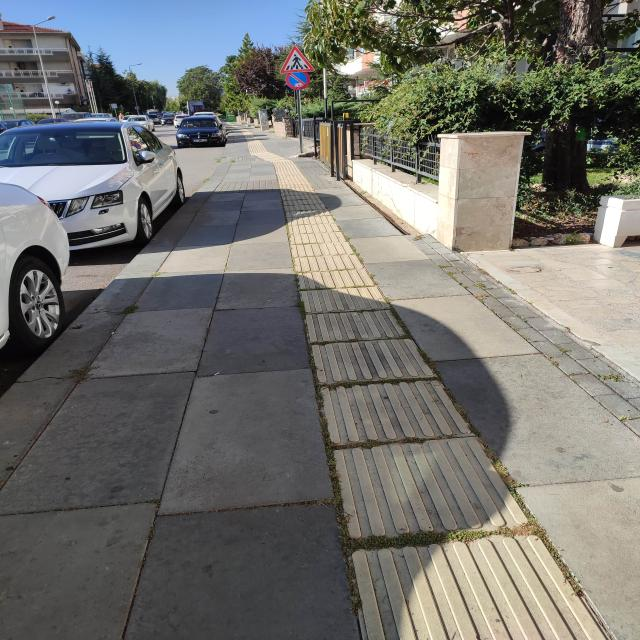sidewalk: (2, 125, 638, 640)
